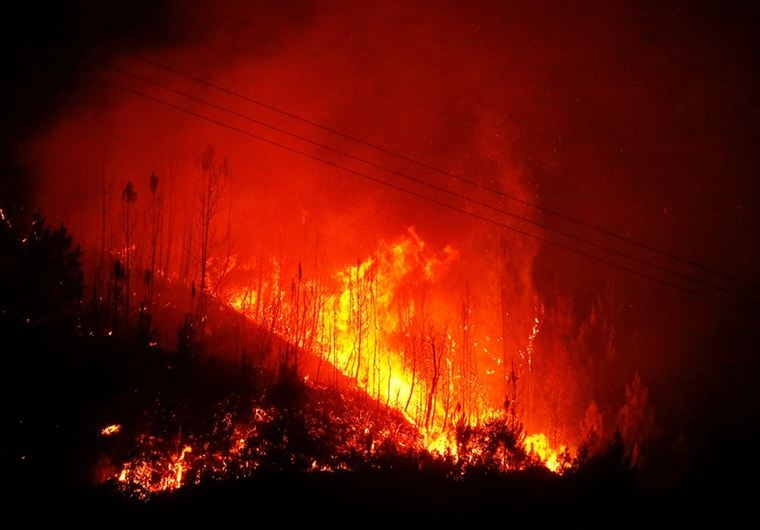fire: (232, 255, 567, 473), (91, 405, 270, 497)
